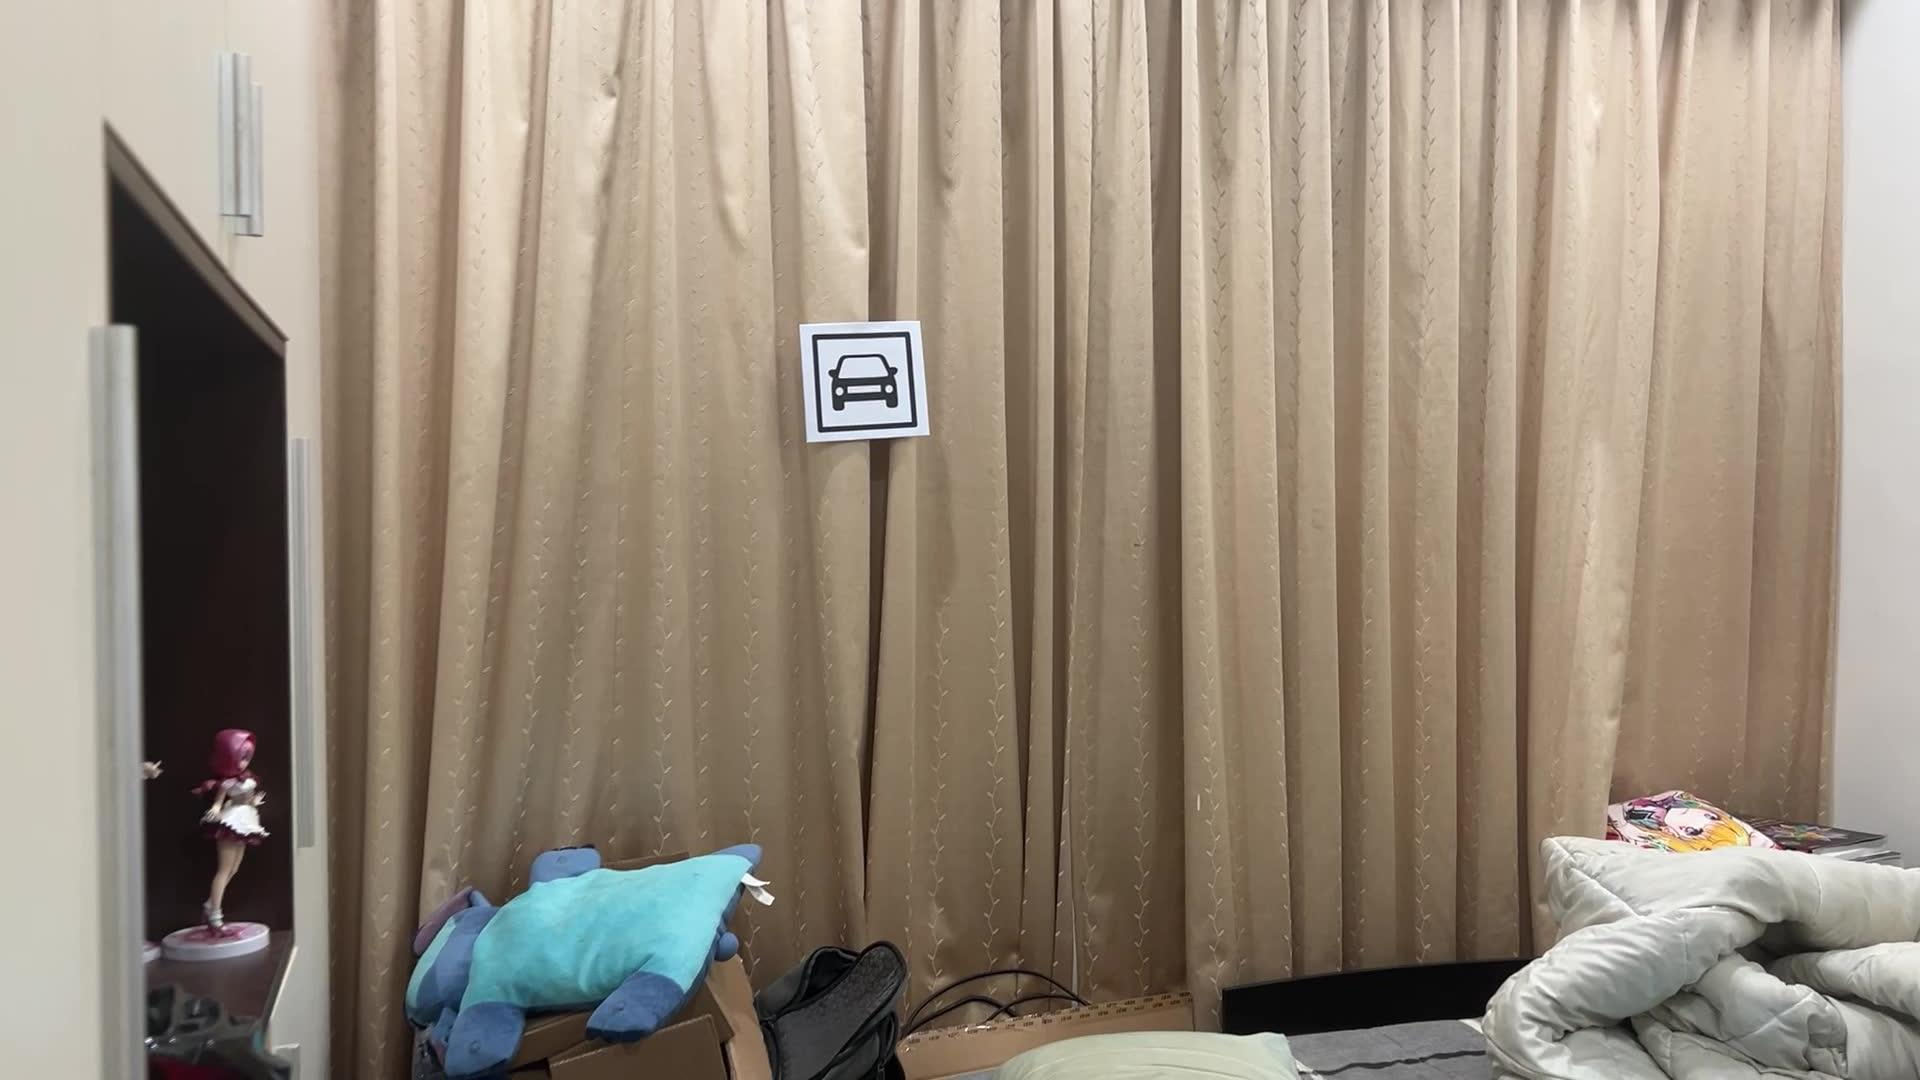car_img: (810, 330, 919, 435)
